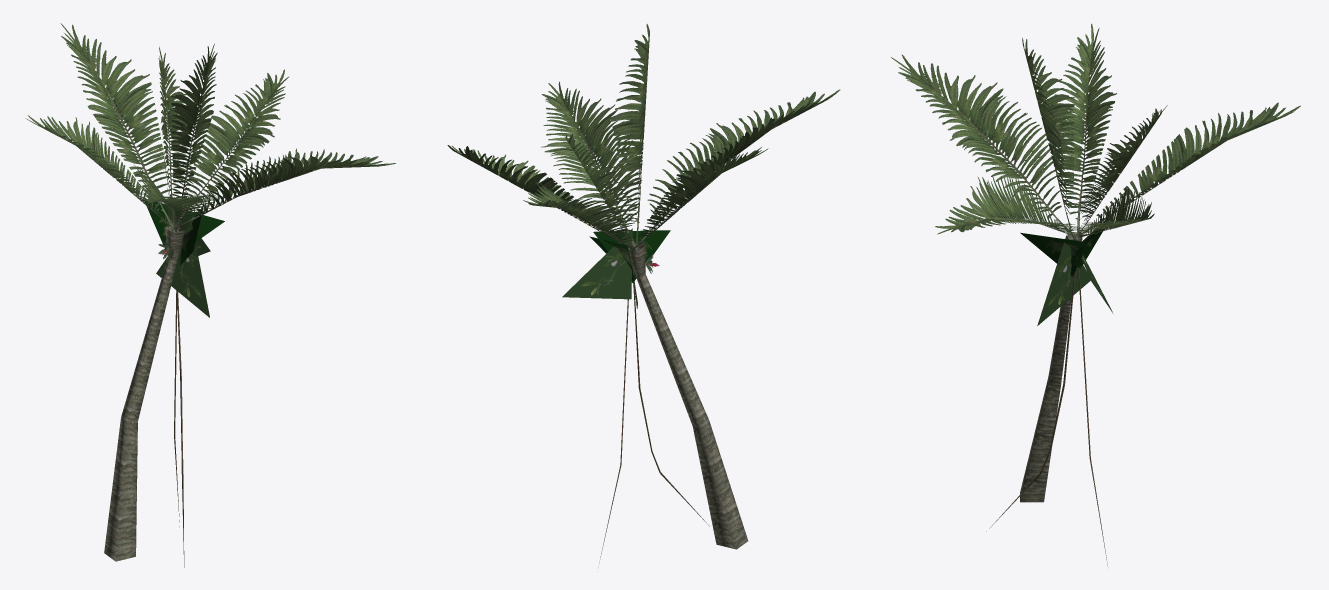
Rendered from ever_palmtree_smflora_l1.fbx.
The picture shows the model from 3 angles, left to right: view 1: azimuth 30°, elevation 25°; view 2: azimuth 150°, elevation 25°; view 3: azimuth 270°, elevation 25°; orthographic projection. The views are drawn at different scales.
Parts seen in each view (by area): view 1: mesh_node; view 2: mesh_node; view 3: mesh_node.
Part boxes in pixels (<box>): mesh_node: <box>25,23,395,567</box>; mesh_node: <box>447,24,840,562</box>; mesh_node: <box>891,23,1300,565</box>.
Size of the model in its own units: 7.76 by 12.72 by 9.15.
